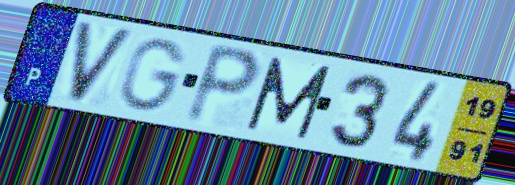3: (328, 71, 392, 150)
4: (389, 77, 443, 166)
G: (116, 36, 191, 115)
M: (243, 53, 336, 142)
P: (180, 40, 265, 128)
V: (67, 18, 139, 107)
